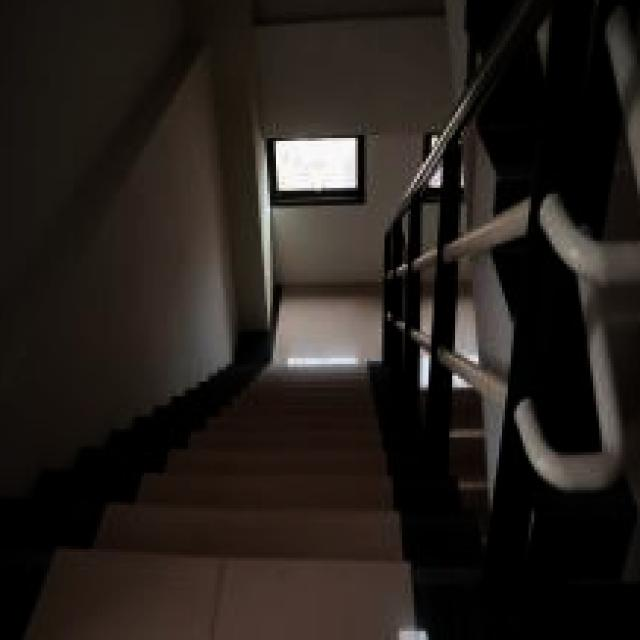downstair: (194, 388, 406, 640)
